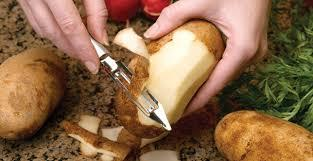Organic: (4, 3, 313, 161)
